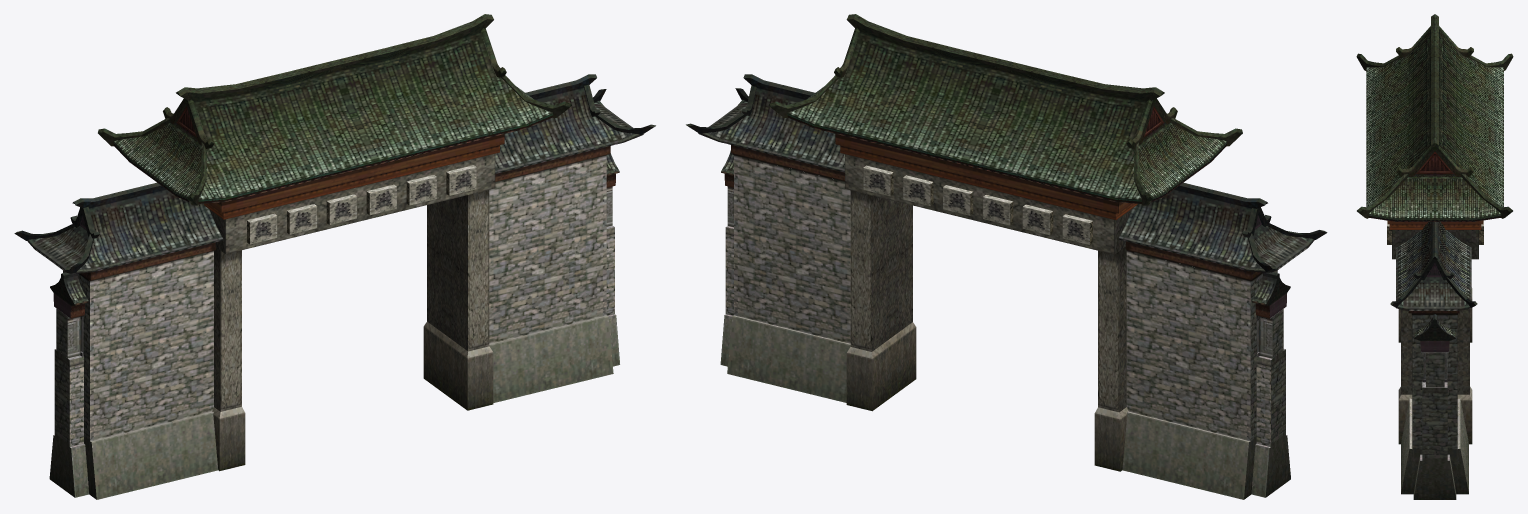
File: c1-middledam-01.glb
The picture shows the model from 3 angles, left to right: view 1: azimuth 30°, elevation 25°; view 2: azimuth 150°, elevation 25°; view 3: azimuth 270°, elevation 25°; orthographic projection. The views are drawn at different scales.
Visible parts, largest first — view 1: Object01; view 2: Object01; view 3: Object01.
Boxes of the visible parts, x1,y1,x2,y2 form: Object01: (14, 14, 655, 499); Object01: (686, 14, 1327, 499); Object01: (1356, 14, 1513, 499).
Size of the model in its own units: 22.82 by 13.67 by 6.24.
Materials: 2 (2 with a texture image).
